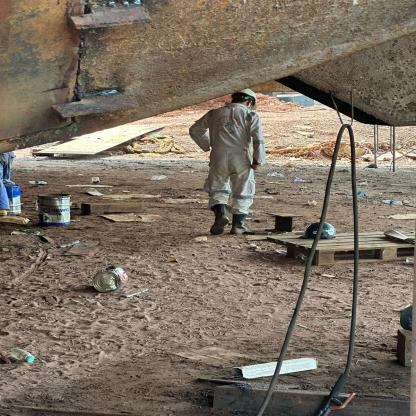bota: (209, 203, 231, 235), (230, 213, 253, 234)
